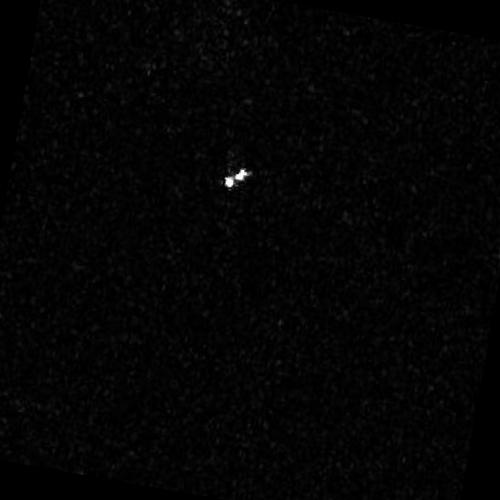ship: (221, 164, 253, 191)
